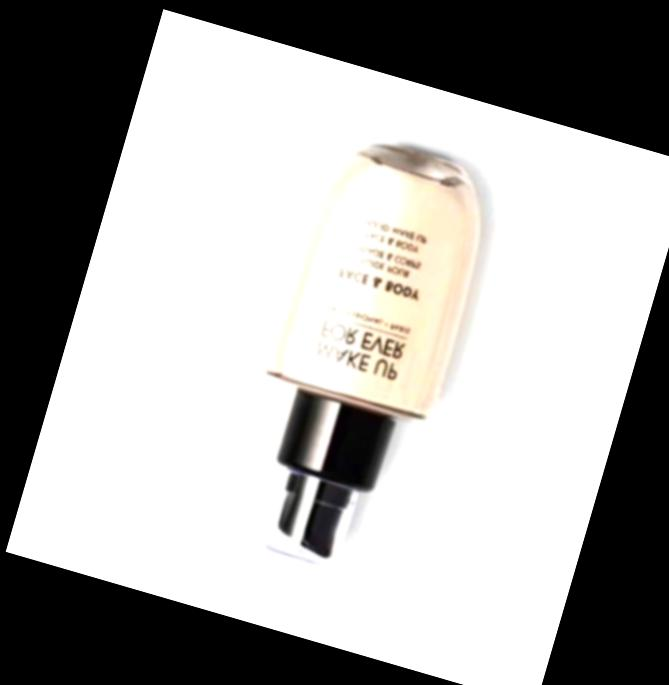cosmetic: (215, 124, 505, 586)
